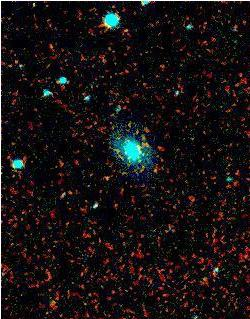star: (141, 156, 171, 186)
